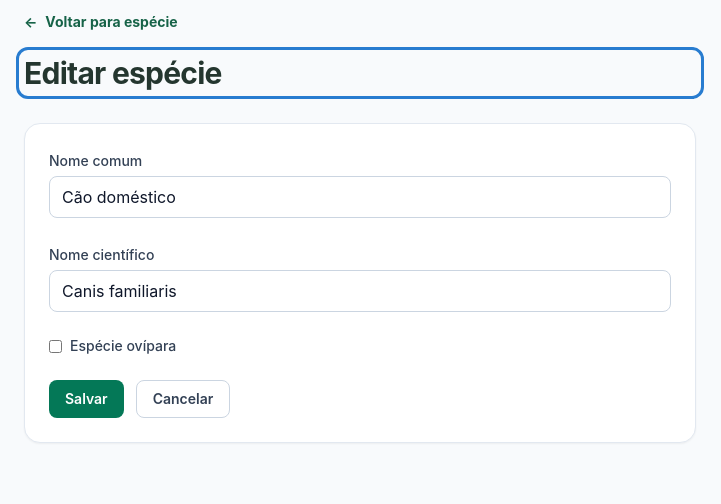
Test: SpeciesFormPage - edição › traduz conflito 409 ao atualizar
The width and height of the screenshot is (721, 504).
Expected: the field showing "Cão doméstico" is shown, [49,176,671,218]
Click the button "Salvar" at (86, 399), box [49,380,124,418]
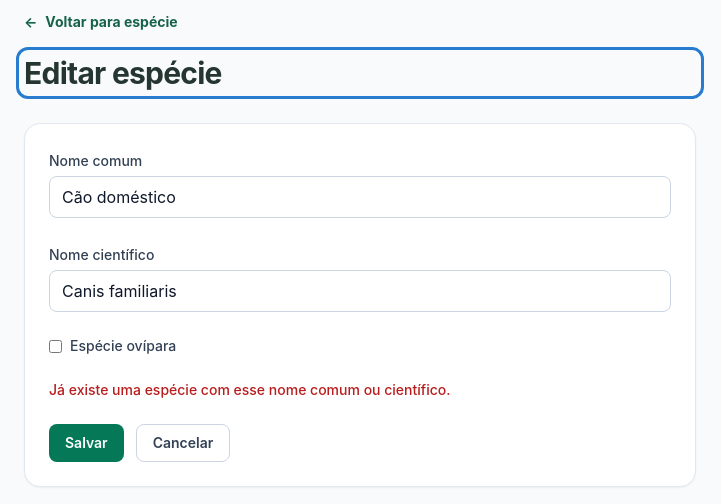
Result: the message reads "Já existe uma espécie com esse nome comum ou científico." at [49,381,450,398]
